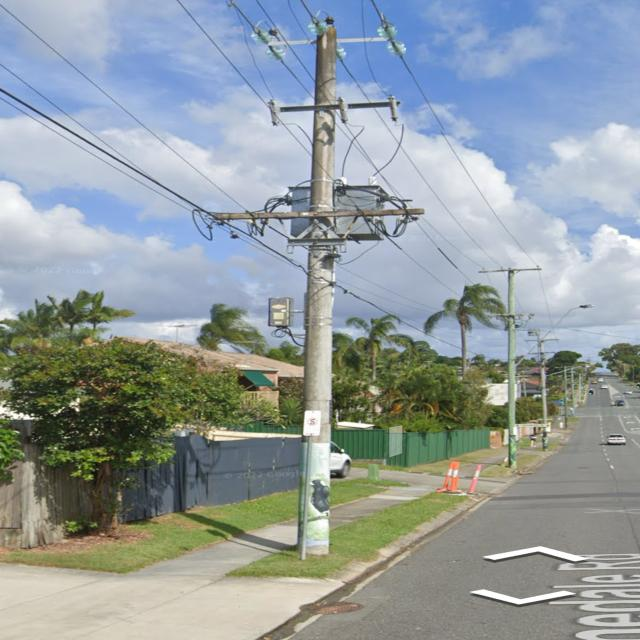HV-transmission: (252, 15, 407, 124), (477, 265, 542, 320)
LV link: (393, 214, 419, 236), (371, 214, 394, 238), (246, 218, 268, 236)
concrete-pole: (297, 24, 338, 559)
crossarm: (248, 23, 408, 59), (269, 93, 401, 128), (211, 208, 423, 221), (478, 268, 542, 273), (487, 313, 535, 317)
streetlight: (514, 304, 596, 366)
timber-pole: (506, 270, 518, 468)
transformer: (287, 174, 383, 240)
